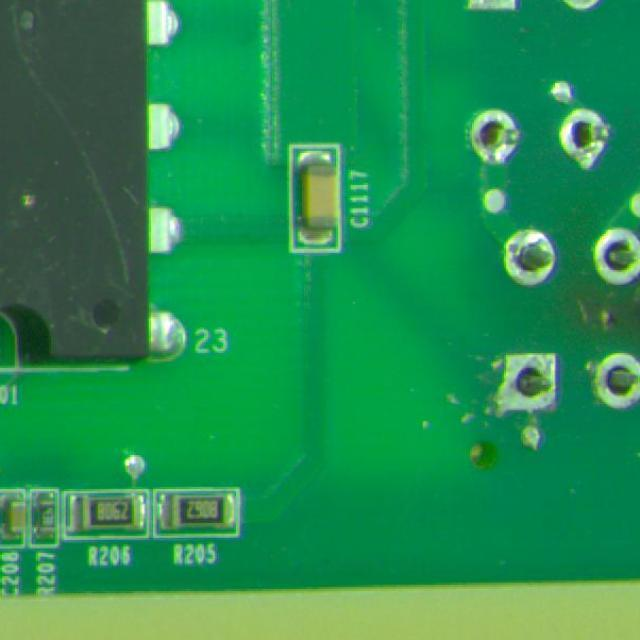Insufficient solder: (490, 344, 567, 424), (496, 222, 560, 292), (554, 106, 616, 171), (469, 98, 522, 172), (587, 343, 640, 417), (589, 226, 640, 285)
